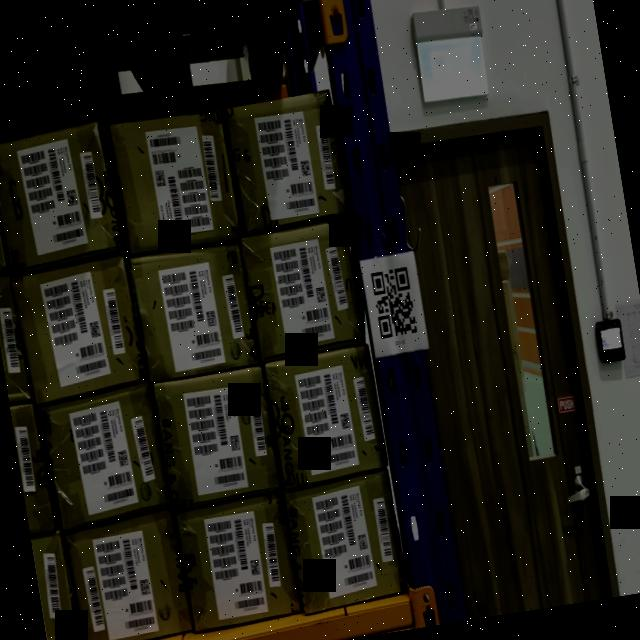box: (113, 110, 240, 250), (225, 89, 348, 232), (132, 243, 258, 381), (266, 346, 388, 488), (154, 368, 279, 506), (17, 262, 143, 396), (176, 496, 300, 632), (244, 222, 362, 361), (0, 125, 115, 267), (45, 391, 167, 519), (286, 481, 408, 606), (67, 516, 189, 640)
